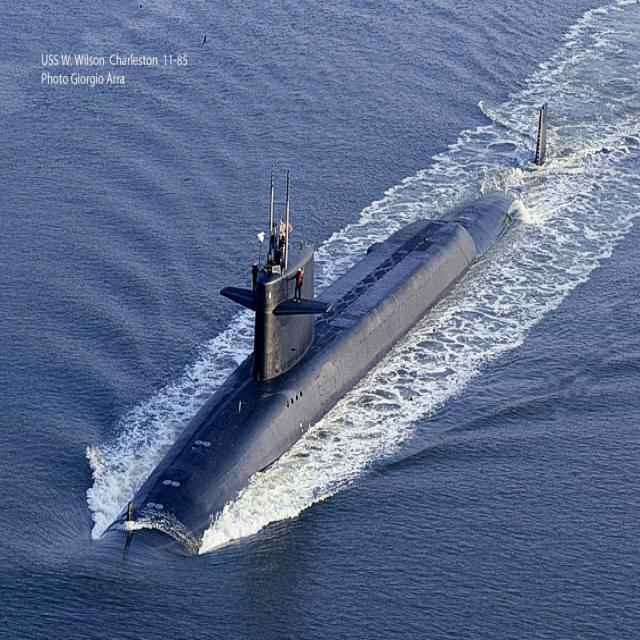submarine: (100, 102, 549, 563)
